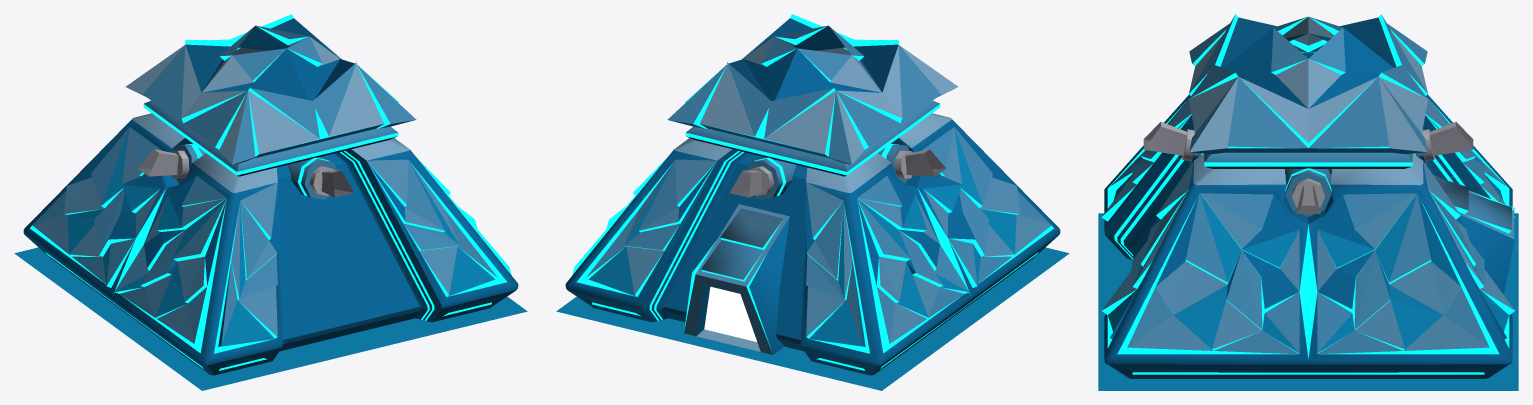
The model's file is pyramidMain.gltf.
3 renders of one model, left to right at view 1: azimuth 30°, elevation 25°; view 2: azimuth 150°, elevation 25°; view 3: azimuth 270°, elevation 25°, orthographic. The views are drawn at different scales.
Parts seen in each view (by area): view 1: Main; view 2: Main; view 3: Main.
Part boxes in pixels (<box>): Main: <box>14,14,527,390</box>; Main: <box>556,14,1069,390</box>; Main: <box>1098,14,1518,390</box>.
Size of what is drawn, in the model's own units: 32 by 23.05 by 32.
1 material, 1 textured.
